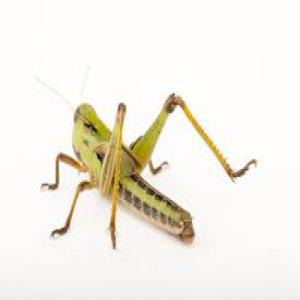locust: (41, 65, 218, 245)
